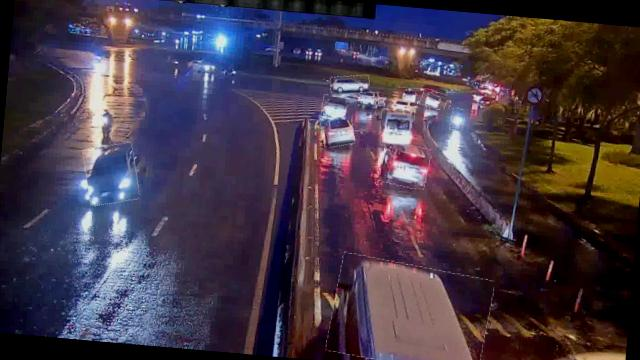Bike: (98, 112, 114, 144), (450, 108, 466, 132)
Bus: (326, 255, 494, 360), (378, 109, 416, 146)
Car: (80, 140, 140, 207), (378, 142, 431, 190), (318, 110, 356, 149), (329, 74, 370, 96), (320, 94, 354, 120), (420, 90, 447, 110), (390, 98, 416, 116), (396, 87, 421, 104)
